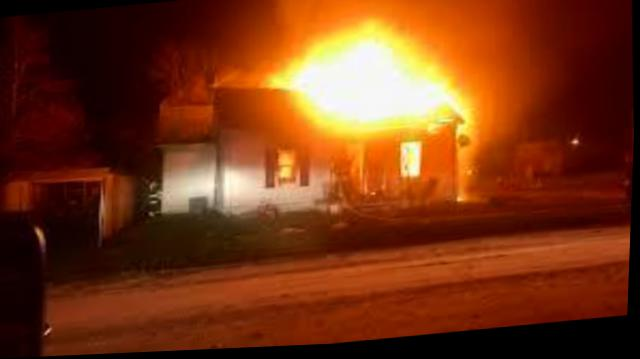fire: (239, 15, 478, 159)
